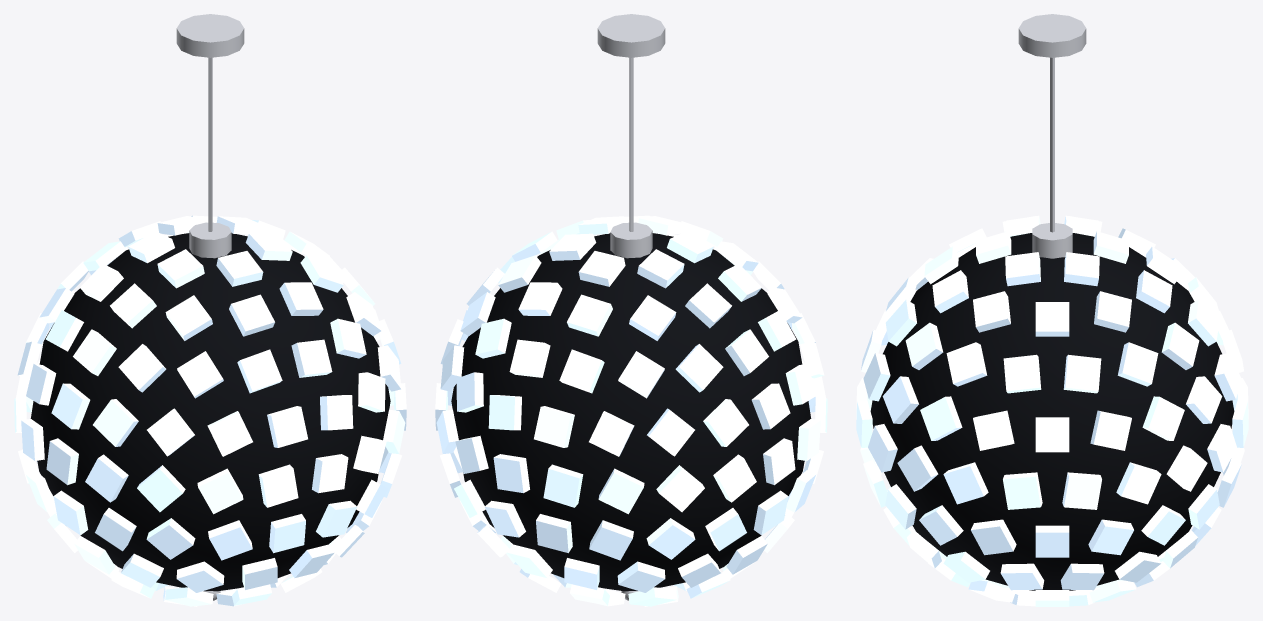
The model's file is disco_ball_mirrored.glb.
The picture shows the model from 3 angles, left to right: view 1: azimuth 30°, elevation 25°; view 2: azimuth 150°, elevation 25°; view 3: azimuth 270°, elevation 25°; orthographic projection.
Parts seen in each view (by area): view 1: disco_ball_mirrored; view 2: disco_ball_mirrored; view 3: disco_ball_mirrored.
Boxes of the visible parts, bbox=[...] form: disco_ball_mirrored: bbox=[14, 14, 406, 606]; disco_ball_mirrored: bbox=[435, 14, 827, 606]; disco_ball_mirrored: bbox=[856, 14, 1248, 606].
Bounding box in the file's own units: 0.9279 × 1.5 × 0.9279.
